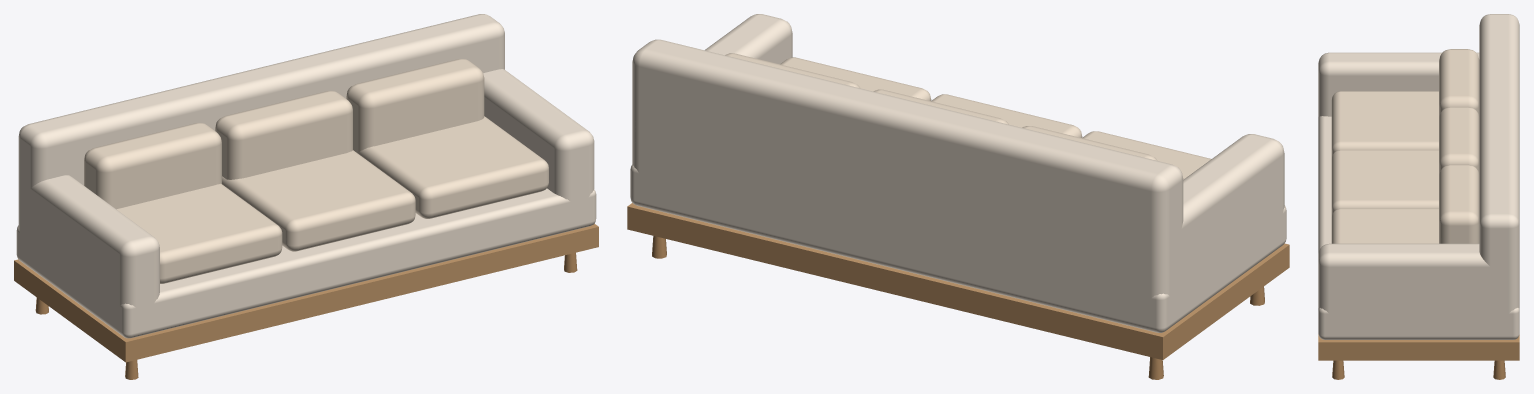
Rendered from sofa-lite.glb.
3 renders of one model, left to right at view 1: azimuth 30°, elevation 25°; view 2: azimuth 150°, elevation 25°; view 3: azimuth 270°, elevation 25°, orthographic. The views are drawn at different scales.
Parts seen in each view (by area): view 1: material-2-upholstery, material-3-cushion, material-1-frame, material-0-leg; view 2: material-2-upholstery, material-1-frame, material-3-cushion, material-0-leg; view 3: material-2-upholstery, material-3-cushion, material-1-frame, material-0-leg.
Boxes of the visible parts, <box> form: material-2-upholstery: <box>16,14,596,338</box>; material-3-cushion: <box>84,59,548,283</box>; material-1-frame: <box>14,223,598,362</box>; material-0-leg: <box>35,252,577,379</box>; material-2-upholstery: <box>630,14,1286,332</box>; material-1-frame: <box>627,203,1289,359</box>; material-3-cushion: <box>725,53,1211,179</box>; material-0-leg: <box>652,236,1264,379</box>; material-2-upholstery: <box>1318,14,1519,339</box>; material-3-cushion: <box>1331,49,1479,243</box>; material-1-frame: <box>1318,334,1519,360</box>; material-0-leg: <box>1332,360,1505,379</box>.
Size of the model in its own units: 2.2 by 0.82 by 0.9.
